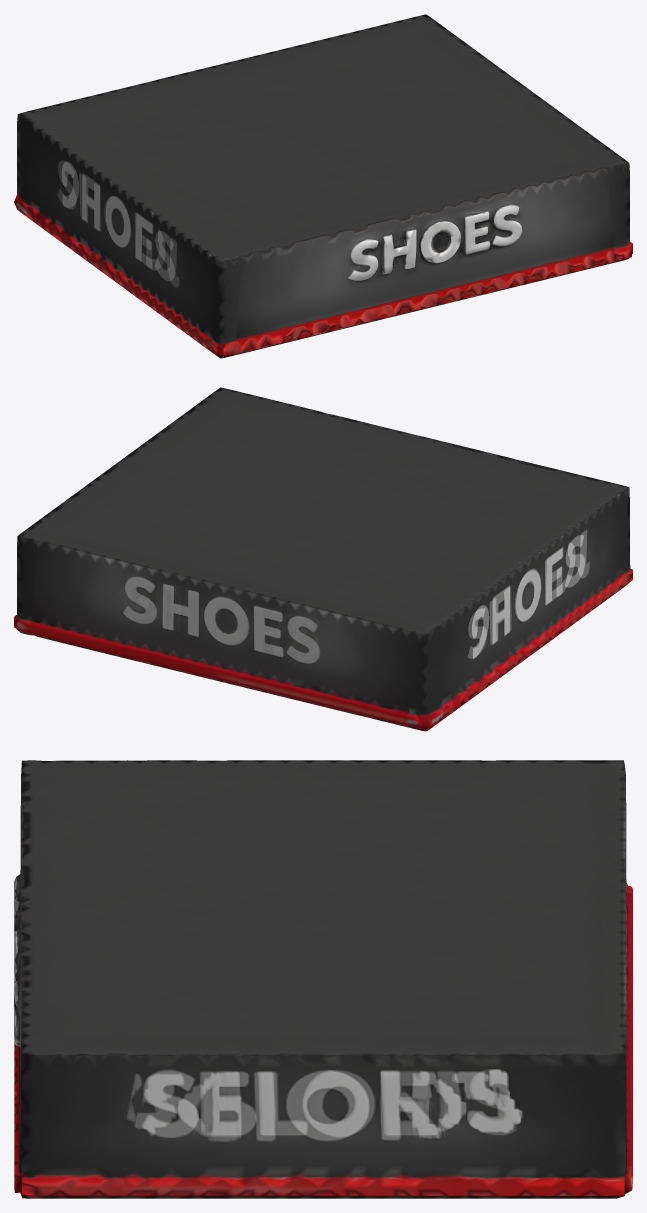
File: Meshy_AI_shoes_0108082755_texture.fbx
The picture shows the model from 3 angles, top to bottom: view 1: azimuth 30°, elevation 25°; view 2: azimuth 150°, elevation 25°; view 3: azimuth 270°, elevation 25°; orthographic projection. The views are drawn at different scales.
Parts seen in each view (by area): view 1: Mesh0; view 2: Mesh0; view 3: Mesh0.
Boxes of the visible parts, <box> form: Mesh0: <box>14,14,632,358</box>; Mesh0: <box>14,387,632,731</box>; Mesh0: <box>14,760,632,1198</box>.
Bounding box in the file's own units: 191 × 42.5 × 166.
1 material, 1 textured.
